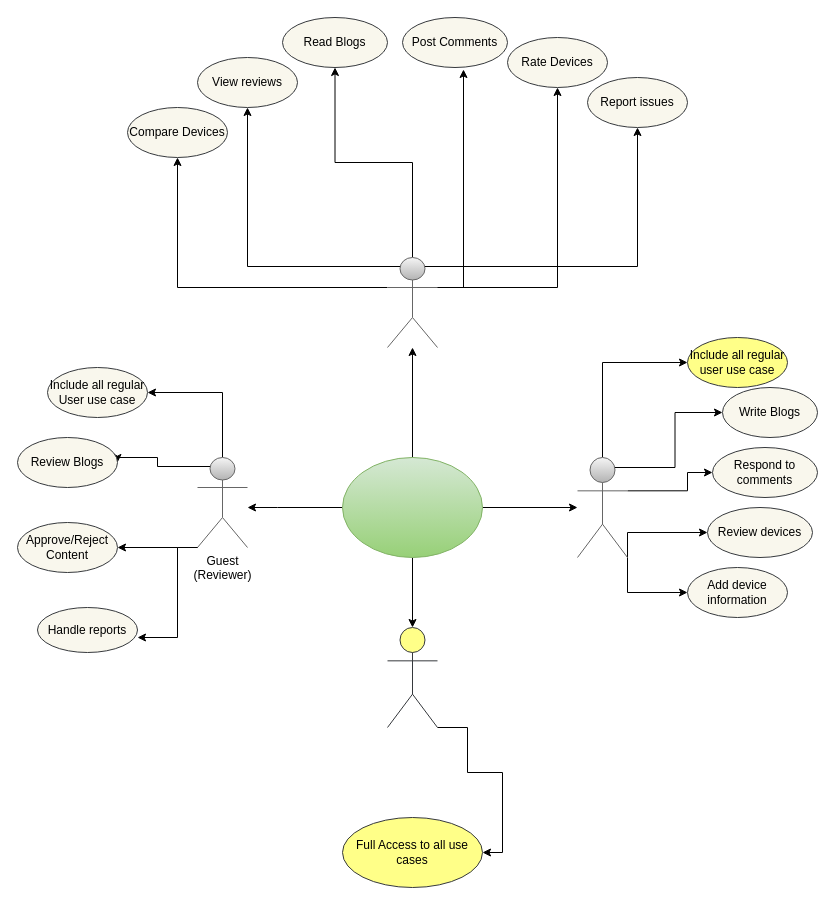
Some shapes in this 835 by 905 pixel diagram are drawn without their labels. Here are the shapes that lost their labels. From the top down, the centre of each, then its label:
point 412,302: Regular User
point 412,507: Device Discovery
point 602,507: Admin
point 412,677: Super User (Developer)
